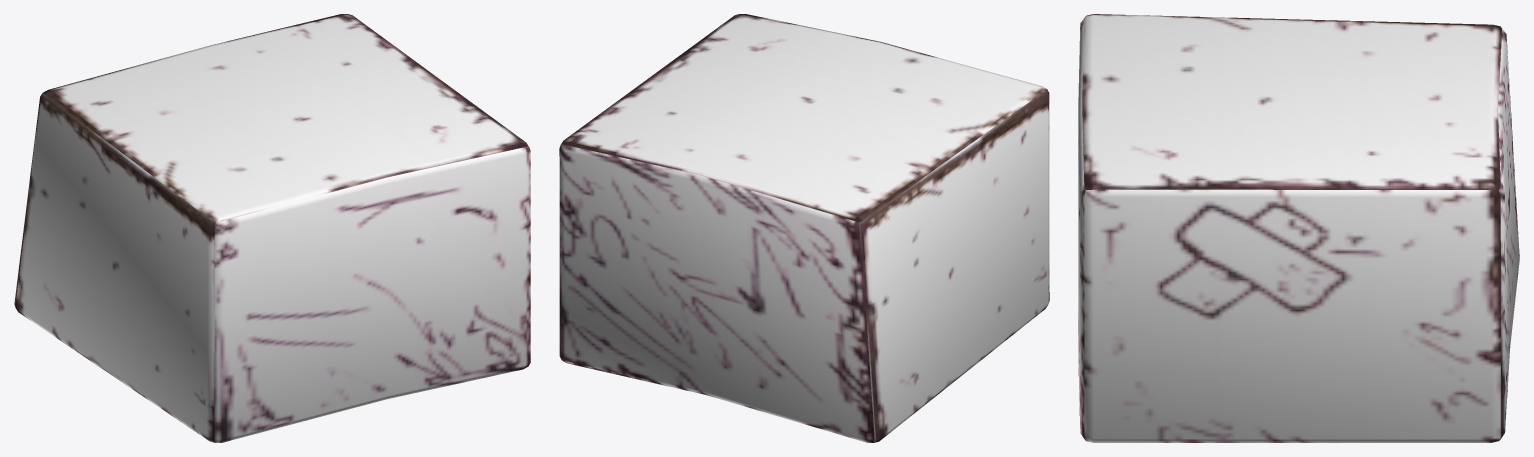
3 renders of one model, left to right at view 1: azimuth 30°, elevation 25°; view 2: azimuth 150°, elevation 25°; view 3: azimuth 270°, elevation 25°, orthographic. The views are drawn at different scales.
Parts seen in each view (by area): view 1: CardboardBox 3; view 2: CardboardBox 3; view 3: CardboardBox 3.
Part boxes in pixels (x1,y1,x2,y2): CardboardBox 3: (14,14,530,442); CardboardBox 3: (559,14,1049,442); CardboardBox 3: (1078,14,1519,442).
Bounding box in the file's own units: 49.76 × 32.86 × 50.02.
1 material, 1 textured.
